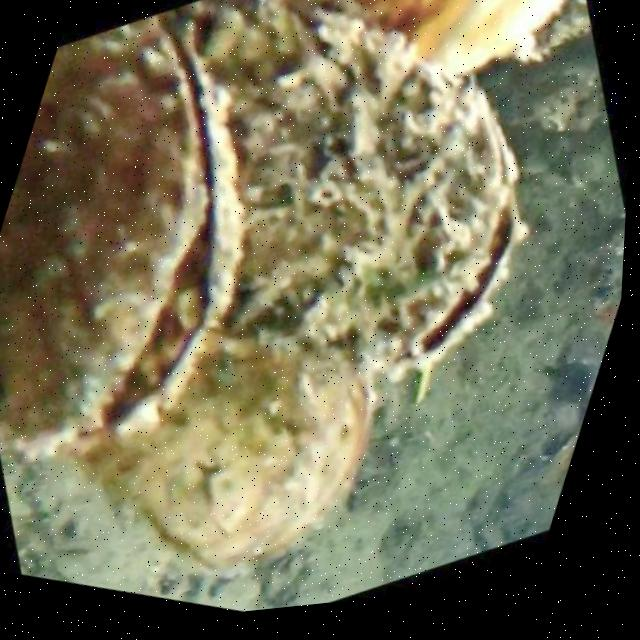Oyster-Indeterminate: (76, 324, 370, 571)
Oyster-Open: (0, 18, 242, 448), (215, 25, 512, 366)
